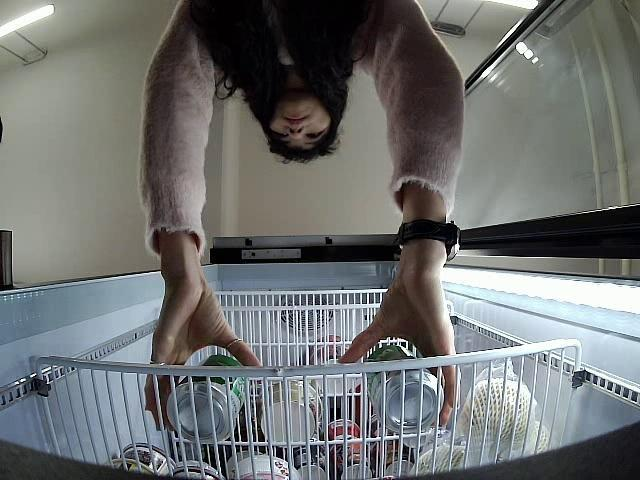12_chilsungCider: (164, 354, 244, 442), (368, 345, 445, 430)
